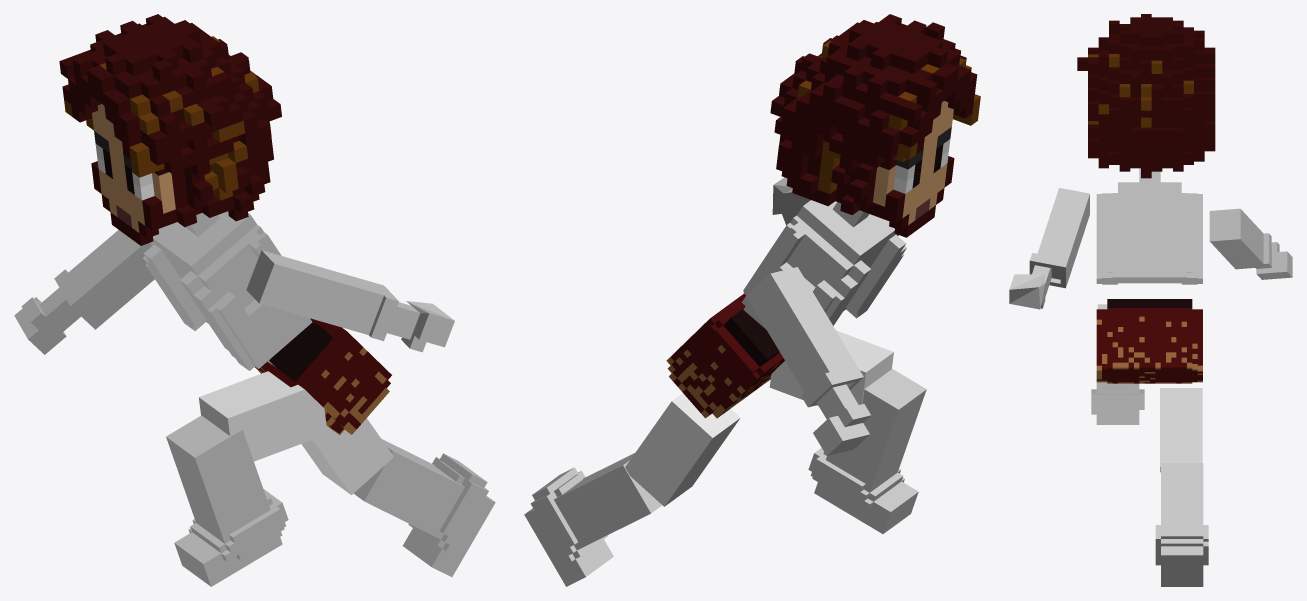
File: POS2.fbx
3 views of the same model, side by side, from view 1: azimuth 30°, elevation 25°; view 2: azimuth 150°, elevation 25°; view 3: azimuth 270°, elevation 25° (orthographic). The views are drawn at different scales.
Parts seen in each view (by area): view 1: POS2; view 2: POS2; view 3: POS2.
Part boxes in pixels (box(x1,y1,x2,y2)): POS2: box(14, 14, 495, 586); POS2: box(524, 14, 980, 586); POS2: box(1009, 14, 1292, 586).
Size of the model in its own units: 137 by 200 by 113.
